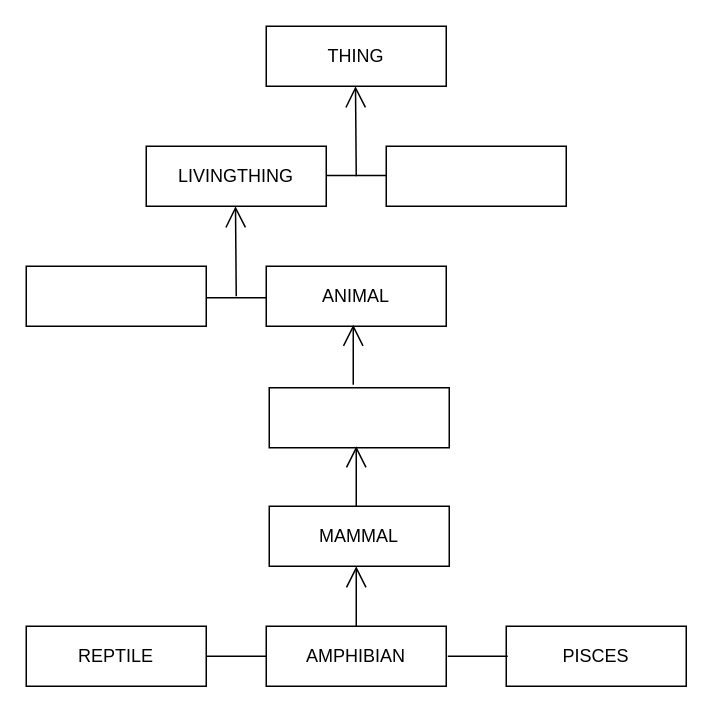
Image size: 713x713. Some labels were removed from this diagram. Here are the shapes that lost their labels. From the top down, the centre of each, then its label:
At point (475, 175): "NONLIVINGTHING".
At point (115, 295): "PLANTS".
At point (358, 417): "VATEBRATE".
